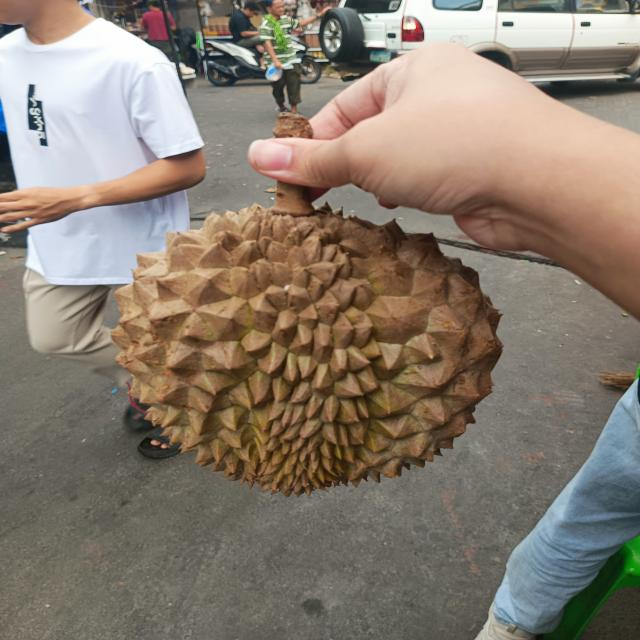mature: (110, 203, 498, 496)
